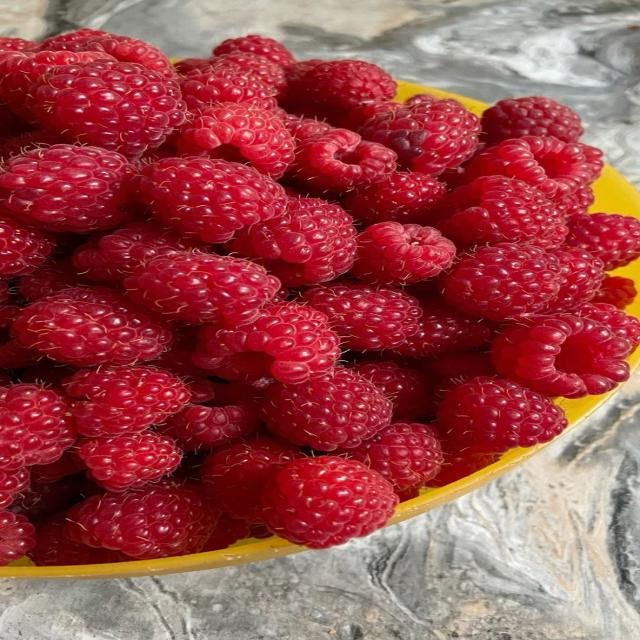raspberry: (33, 61, 185, 158), (262, 456, 399, 548), (139, 158, 287, 242), (12, 288, 171, 366), (64, 482, 218, 559), (0, 145, 134, 233), (194, 303, 340, 383), (492, 315, 630, 398), (228, 198, 356, 286), (124, 252, 279, 324), (263, 368, 392, 451), (438, 377, 567, 453), (438, 176, 567, 249), (442, 243, 561, 320), (359, 99, 479, 175), (176, 103, 294, 178), (65, 366, 191, 436), (466, 136, 602, 200), (201, 436, 302, 521), (301, 282, 420, 350), (0, 51, 114, 121), (73, 222, 202, 283), (157, 383, 265, 450), (337, 423, 442, 490), (289, 60, 396, 123), (291, 129, 396, 192), (0, 384, 76, 470), (352, 222, 455, 285), (77, 432, 181, 491), (394, 298, 490, 357), (27, 512, 131, 566), (343, 172, 445, 225), (158, 398, 259, 451), (481, 96, 583, 144), (352, 361, 431, 420), (180, 63, 275, 112), (567, 213, 639, 270), (79, 34, 173, 77), (546, 247, 604, 313), (9, 475, 89, 521), (210, 52, 287, 98), (0, 218, 53, 278), (427, 443, 499, 487), (15, 260, 90, 302), (146, 328, 206, 379), (573, 303, 639, 349), (0, 101, 48, 158), (213, 35, 294, 67), (428, 352, 496, 381), (0, 511, 35, 566), (0, 130, 62, 161), (17, 358, 77, 390), (340, 100, 402, 130), (201, 514, 249, 551), (29, 451, 82, 483), (39, 28, 112, 51), (593, 276, 637, 309), (284, 115, 333, 143), (555, 185, 594, 220), (0, 468, 30, 509), (0, 340, 42, 368), (286, 59, 326, 85), (172, 453, 205, 481), (188, 377, 218, 403), (174, 58, 209, 75), (0, 37, 38, 51), (404, 93, 439, 107), (248, 523, 273, 539), (395, 487, 420, 502), (0, 281, 13, 307)
